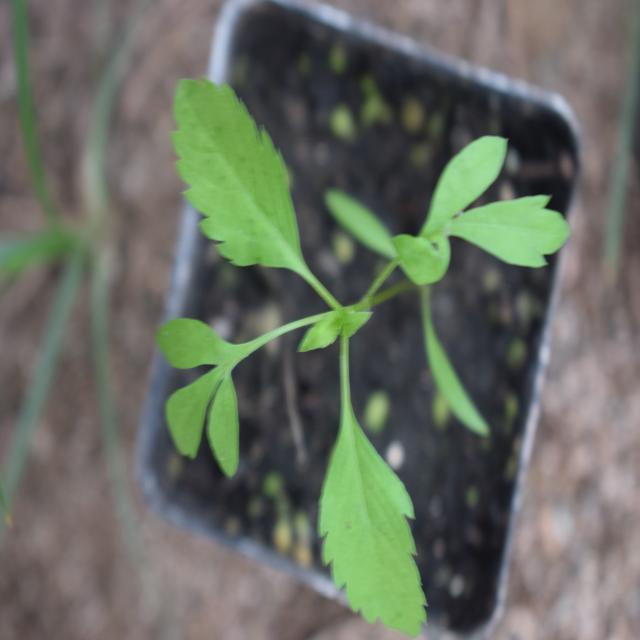Bidens pilosa: (122, 66, 543, 624)
